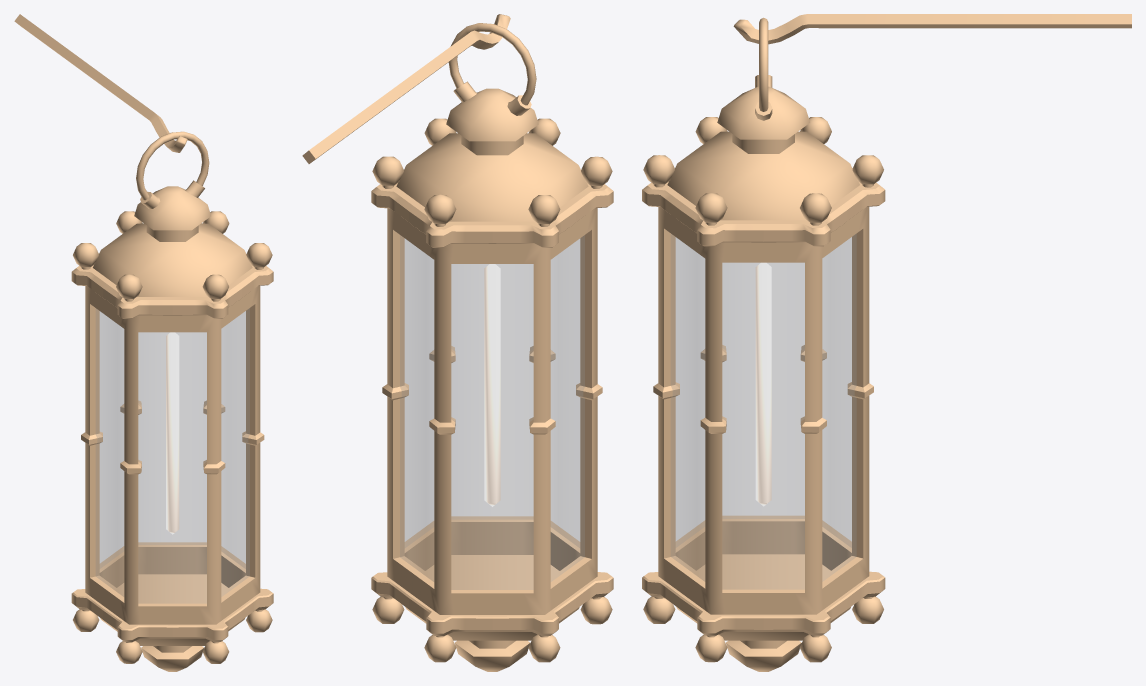
The model's file is Lantern.glb.
The picture shows the model from 3 angles, left to right: view 1: azimuth 30°, elevation 25°; view 2: azimuth 150°, elevation 25°; view 3: azimuth 270°, elevation 25°; orthographic projection. The views are drawn at different scales.
Parts seen in each view (by area): view 1: LanternBody, LanternGlass, LanternLight; view 2: LanternBody, LanternGlass, LanternLight; view 3: LanternBody, LanternGlass, LanternLight.
Boxes of the visible parts, x1,y1,x2,y2 form: LanternBody: (14,14,273,671); LanternGlass: (96,308,249,603); LanternLight: (166,332,179,534); LanternBody: (302,14,613,671); LanternGlass: (400,235,584,589); LanternLight: (484,264,500,506); LanternBody: (642,14,1131,671); LanternGlass: (671,234,856,589); LanternLight: (755,262,771,506).
Size of what is drawn, in the model's own units: 0.8228 by 2.82 by 1.91.
